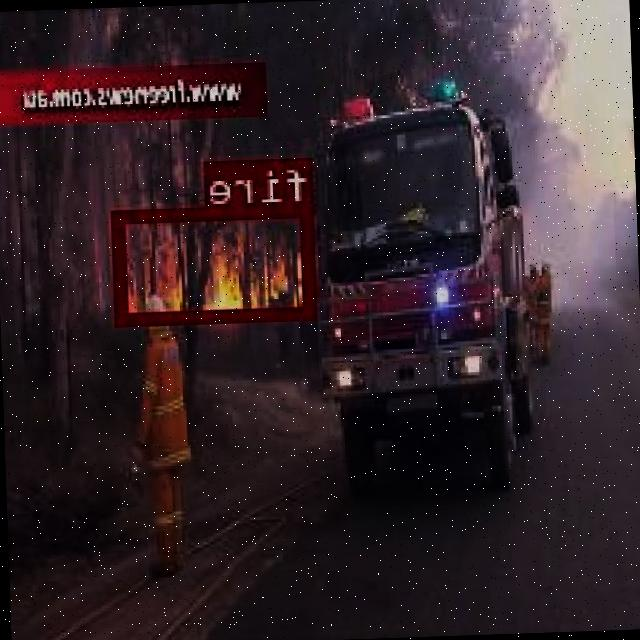fire: (115, 201, 319, 323)
